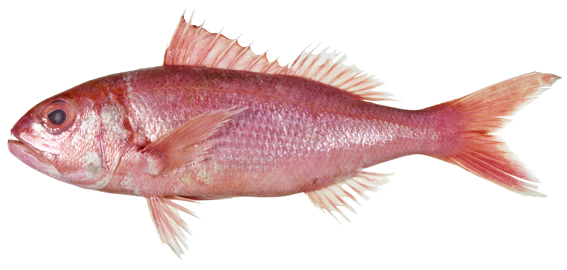fish: (7, 7, 563, 261)
